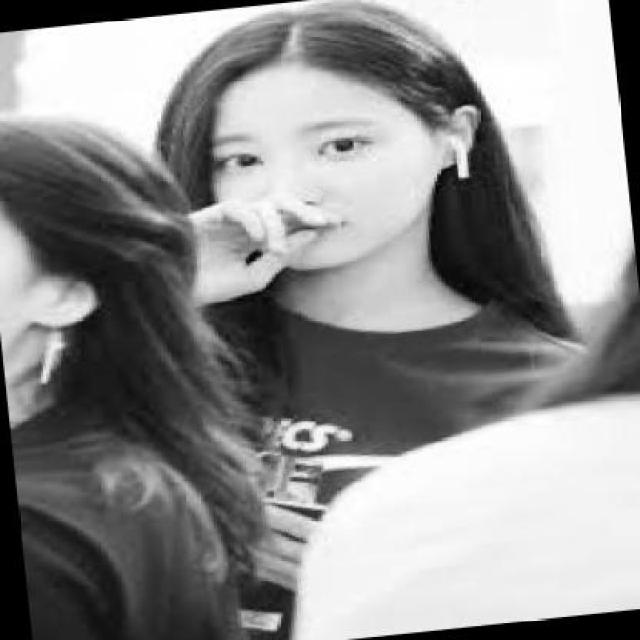earphone: (450, 116, 480, 195)
